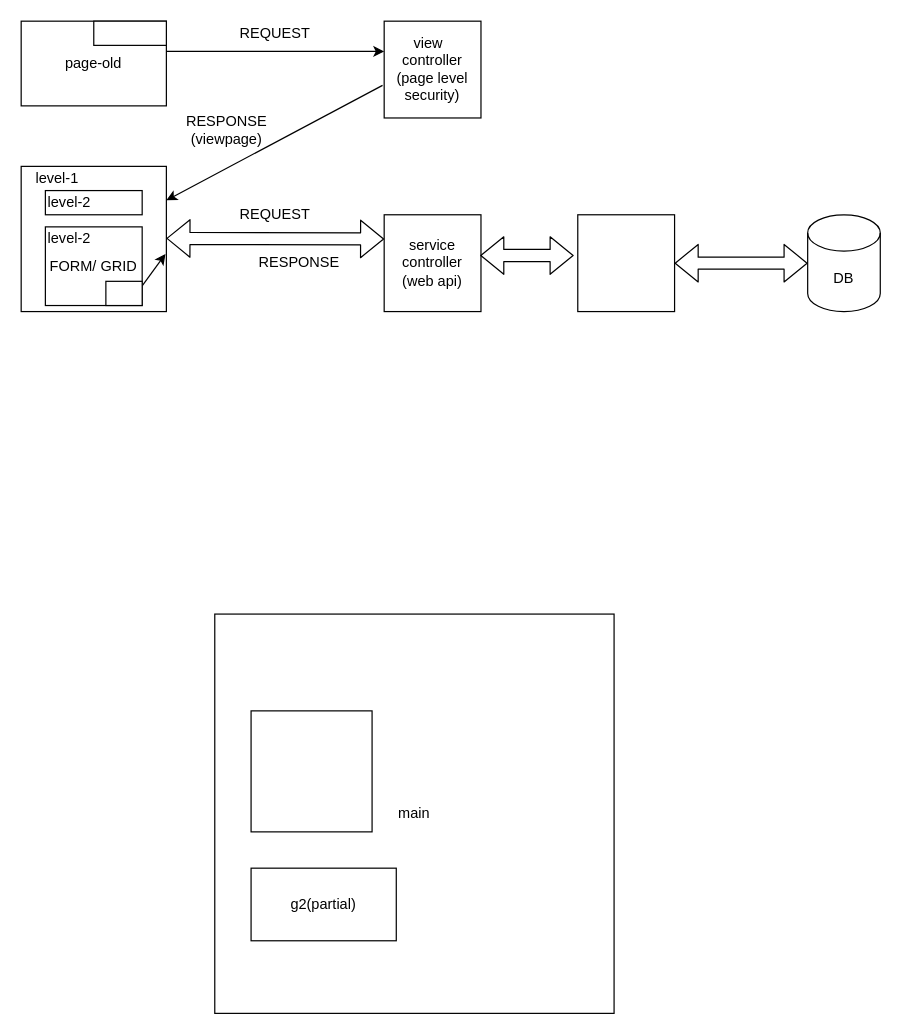
Image size: 901x1035. Some labels were removed from this diagram. Each missing label, with the centre of its shape:
ADD: (x=129, y=32)
BAS: (x=626, y=263)
del: (x=123, y=293)
g1(partial): (x=311, y=771)
